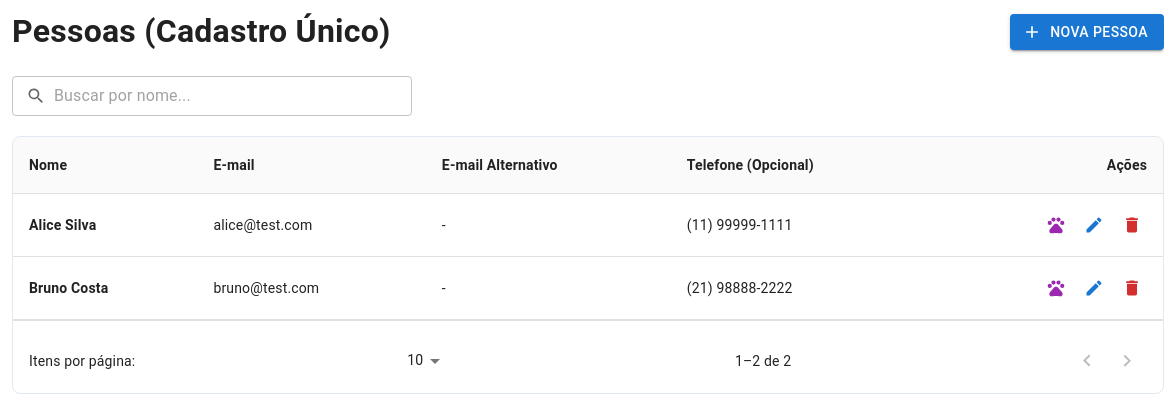
Test: PeoplePage › filters people with search input and clears filter
Expected: the text "Alice Silva" is shown, 13,193 -> 198,256
Expected: the text "Bruno Costa" is shown, 13,256 -> 198,319
Type "Alice" into the field with placeholder "Buscar por nome..." at point(233, 96), box 54,76 -> 412,116
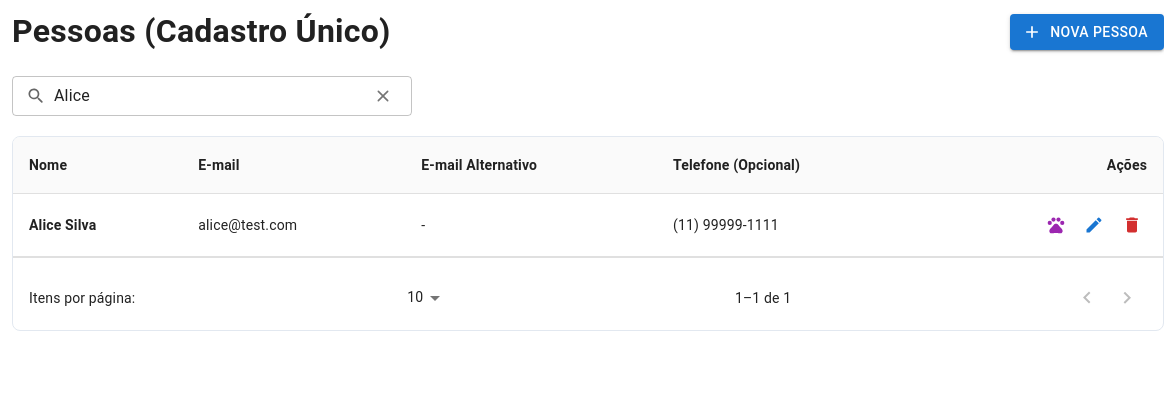
Expected: the text "Alice Silva" is shown, 13,193 -> 182,256
Now the text "Bruno Costa" is gone
Click the button named "Cancelar" at point(383, 96), box 368,80 -> 398,110
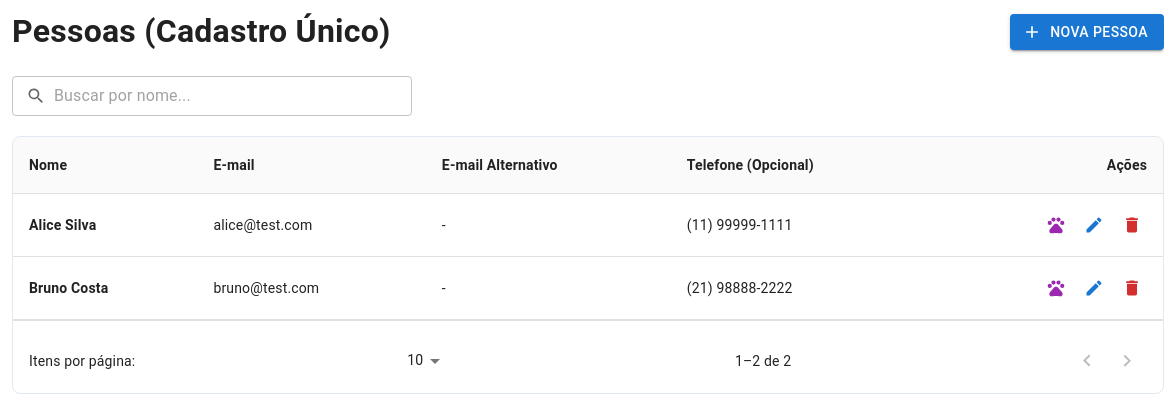
Expected: the text "Alice Silva" is shown, 13,193 -> 198,256
Now the text "Bruno Costa" is shown, box 13,256 -> 198,319
